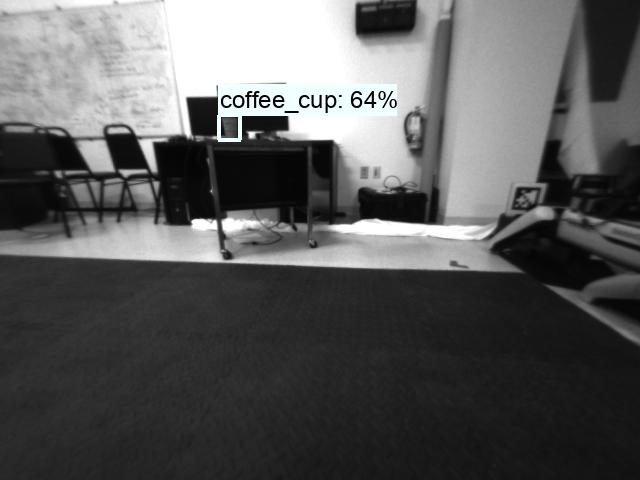coffee_cup: (218, 115, 241, 139)
